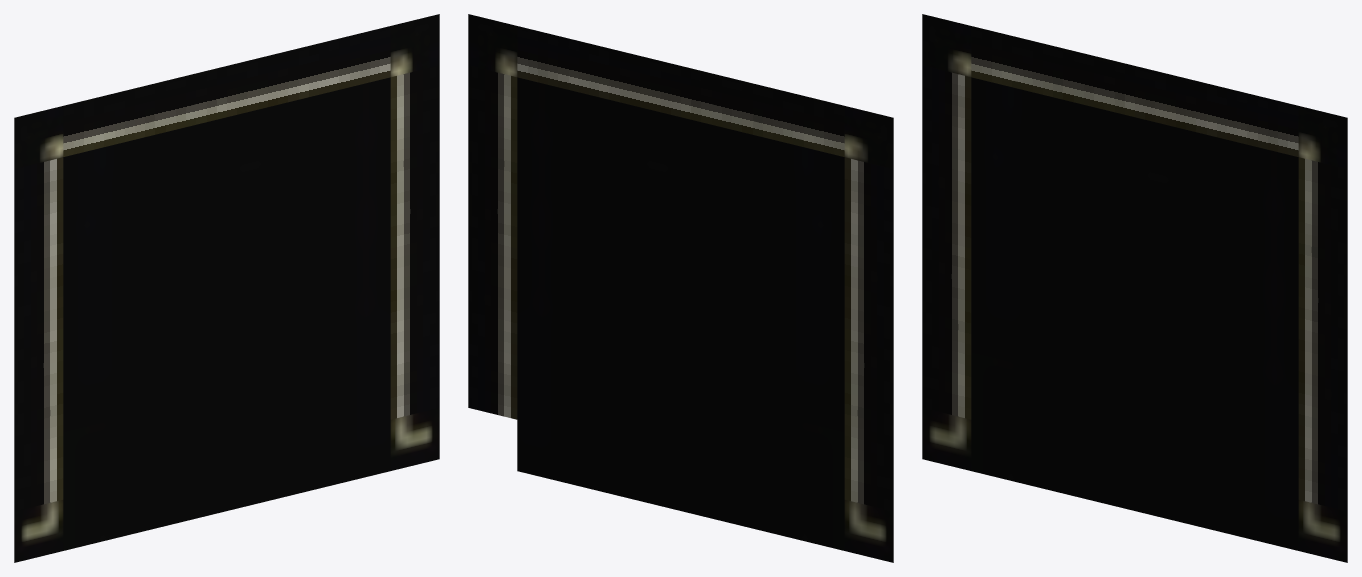
The model's file is general_frame_c.fbx.
3 renders of one model, left to right at view 1: azimuth 30°, elevation 25°; view 2: azimuth 150°, elevation 25°; view 3: azimuth 330°, elevation 25°, orthographic.
Visible parts, largest first — view 1: MiddleMesh, Leftmesh, Rightmesh, TopMesh, BottomMesh, TopLeftmesh, BottomRightMesh, TopRightMesh, BottomLeftMesh; view 2: MiddleMesh, Leftmesh, Rightmesh, TopMesh, BottomMesh, TopLeftmesh, TopRightMesh, BottomLeftMesh; view 3: MiddleMesh, Leftmesh, Rightmesh, TopMesh, BottomMesh, TopRightMesh, BottomLeftMesh, TopLeftmesh, BottomRightMesh.
Boxes of the visible parts, box(x1,y1,x2,y2) form: MiddleMesh: box(63, 77, 390, 499); Leftmesh: box(14, 157, 63, 511); Rightmesh: box(390, 65, 439, 419); TopMesh: box(63, 26, 390, 156); BottomMesh: box(63, 420, 390, 550); TopLeftmesh: box(14, 106, 63, 168); BottomRightMesh: box(390, 408, 439, 470); TopRightMesh: box(390, 14, 439, 76); BottomLeftMesh: box(14, 500, 63, 562); MiddleMesh: box(517, 77, 844, 499); Leftmesh: box(844, 157, 893, 511); Rightmesh: box(468, 65, 517, 419); TopMesh: box(517, 26, 844, 156); BottomMesh: box(517, 420, 844, 550); TopLeftmesh: box(844, 106, 893, 168); TopRightMesh: box(468, 14, 517, 76); BottomLeftMesh: box(844, 500, 893, 562); MiddleMesh: box(971, 77, 1298, 499); Leftmesh: box(922, 65, 971, 419); Rightmesh: box(1298, 157, 1347, 511); TopMesh: box(971, 26, 1298, 156); BottomMesh: box(971, 420, 1298, 550); TopRightMesh: box(1298, 106, 1347, 168); BottomLeftMesh: box(922, 408, 971, 470); TopLeftmesh: box(922, 14, 971, 76); BottomRightMesh: box(1298, 500, 1347, 562).
Size of the model in its own units: 130 by 130 by 2.13e-05.
Materials: 2 (2 with a texture image).
